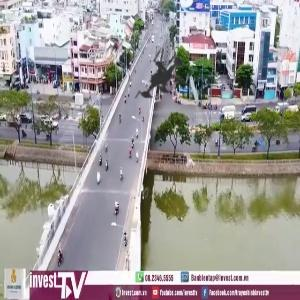drone: (114, 27, 220, 133)
